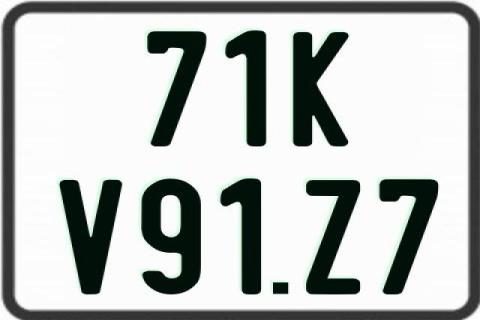0: (138, 177, 201, 296), (379, 178, 440, 296), (144, 31, 203, 149), (225, 28, 271, 147), (217, 178, 258, 294)
K: (291, 30, 347, 148)
V: (57, 180, 124, 295)
Z: (306, 180, 361, 298)
